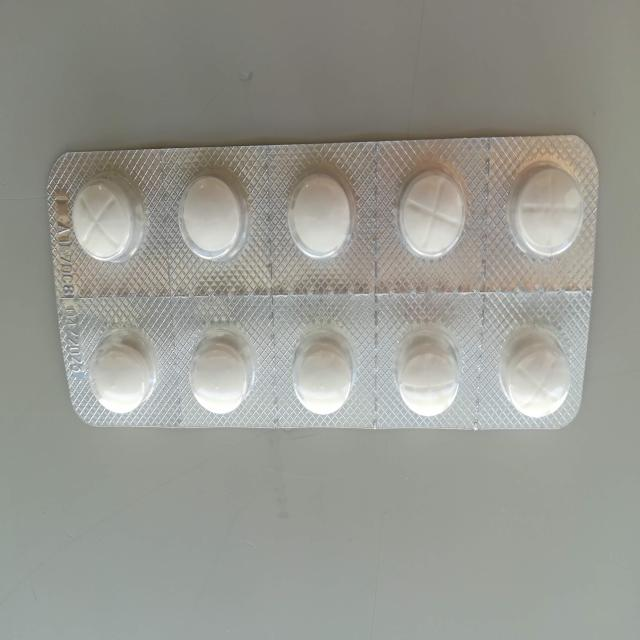Pill: (506, 155, 584, 262), (173, 165, 254, 268), (394, 160, 470, 267), (280, 168, 356, 268), (495, 331, 576, 424), (389, 329, 467, 425), (68, 171, 142, 266), (83, 328, 159, 418), (288, 328, 359, 420), (186, 330, 256, 421)
